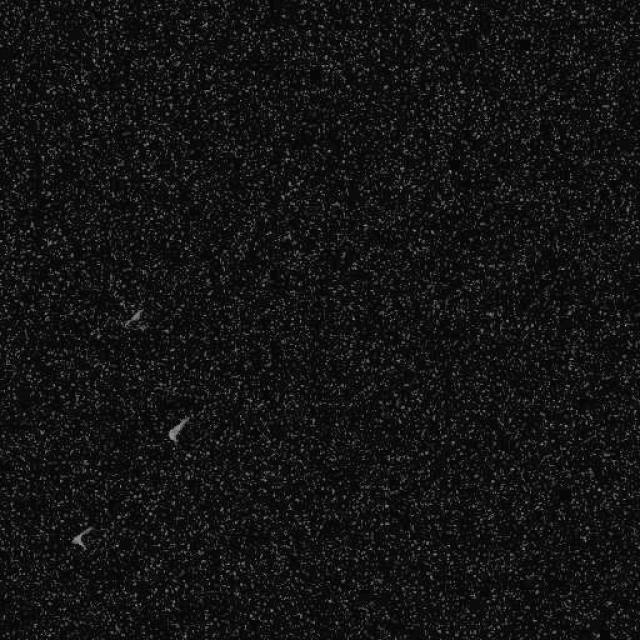D2: (166, 412, 190, 443), (70, 524, 95, 550), (123, 308, 145, 328)
